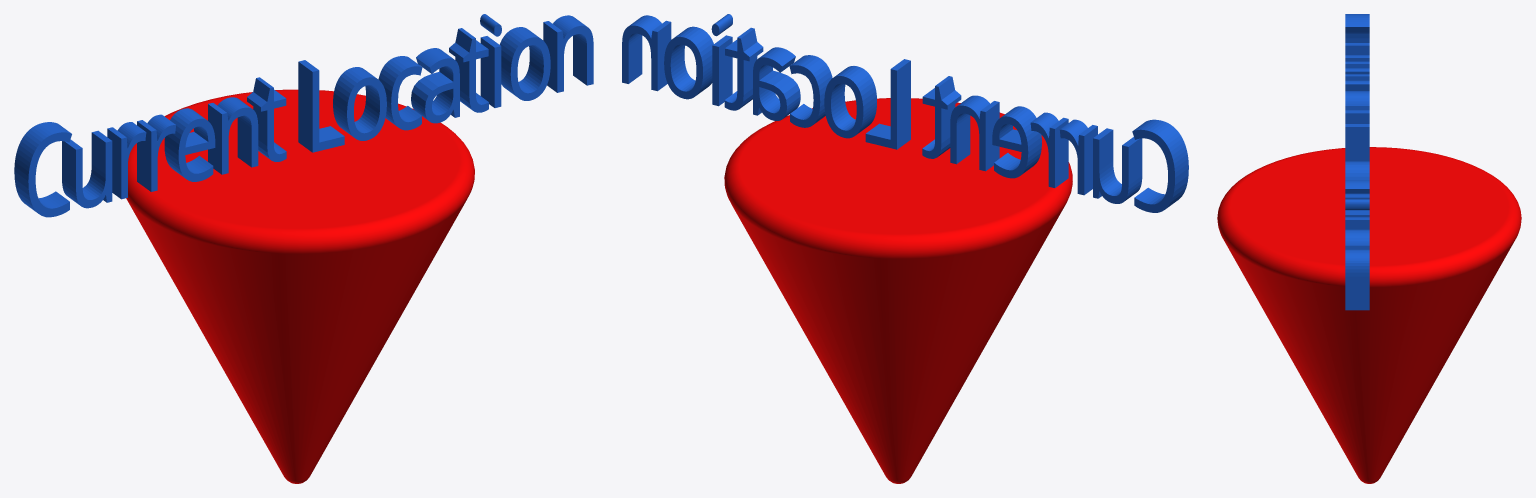
Rendered from current_location.obj.
The picture shows the model from 3 angles, left to right: view 1: azimuth 30°, elevation 25°; view 2: azimuth 150°, elevation 25°; view 3: azimuth 270°, elevation 25°; orthographic projection. The views are drawn at different scales.
Visible parts, largest first — view 1: 000_Cone, 002_3D_Text_-_u, 001_3D_Text_-_C, 009_3D_Text_-_o, 011_3D_Text_-_a, 006_3D_Text_-_n, 014_3D_Text_-_o, 005_3D_Text_-_e, 015_3D_Text_-_n, 008_3D_Text_-_L, 010_3D_Text_-_c, 012_3D_Text_-_t (+4 smaller); view 2: 000_Cone, 002_3D_Text_-_u, 001_3D_Text_-_C, 009_3D_Text_-_o, 011_3D_Text_-_a, 006_3D_Text_-_n, 014_3D_Text_-_o, 015_3D_Text_-_n, 005_3D_Text_-_e, 008_3D_Text_-_L, 010_3D_Text_-_c, 007_3D_Text_-_t (+4 smaller); view 3: 000_Cone, 015_3D_Text_-_n, 008_3D_Text_-_L, 001_3D_Text_-_C, 013_3D_Text_-_i, 002_3D_Text_-_u, 009_3D_Text_-_o, 004_3D_Text_-_r, 014_3D_Text_-_o, 003_3D_Text_-_r, 010_3D_Text_-_c.
Boxes of the visible parts, x1=… form: 000_Cone: x1=126, y1=89, x2=474, y2=483; 002_3D_Text_-_u: x1=62, y1=130, x2=112, y2=208; 001_3D_Text_-_C: x1=14, y1=122, x2=71, y2=217; 009_3D_Text_-_o: x1=333, y1=67, x2=386, y2=140; 011_3D_Text_-_a: x1=411, y1=48, x2=459, y2=123; 006_3D_Text_-_n: x1=208, y1=97, x2=258, y2=174; 014_3D_Text_-_o: x1=499, y1=27, x2=550, y2=100; 005_3D_Text_-_e: x1=164, y1=108, x2=215, y2=181; 015_3D_Text_-_n: x1=543, y1=15, x2=593, y2=92; 008_3D_Text_-_L: x1=298, y1=60, x2=344, y2=152; 010_3D_Text_-_c: x1=378, y1=56, x2=422, y2=130; 012_3D_Text_-_t: x1=449, y1=28, x2=488, y2=112; 000_Cone: x1=724, y1=98, x2=1072, y2=483; 002_3D_Text_-_u: x1=1093, y1=128, x2=1142, y2=203; 001_3D_Text_-_C: x1=1132, y1=119, x2=1188, y2=212; 009_3D_Text_-_o: x1=824, y1=66, x2=876, y2=138; 011_3D_Text_-_a: x1=753, y1=47, x2=800, y2=120; 006_3D_Text_-_n: x1=950, y1=95, x2=999, y2=171; 014_3D_Text_-_o: x1=664, y1=26, x2=713, y2=99; 015_3D_Text_-_n: x1=622, y1=15, x2=671, y2=91; 005_3D_Text_-_e: x1=992, y1=106, x2=1041, y2=178; 008_3D_Text_-_L: x1=865, y1=59, x2=910, y2=149; 010_3D_Text_-_c: x1=789, y1=55, x2=832, y2=127; 007_3D_Text_-_t: x1=922, y1=76, x2=961, y2=158; 000_Cone: x1=1217, y1=147, x2=1521, y2=483; 015_3D_Text_-_n: x1=1345, y1=243, x2=1369, y2=310; 008_3D_Text_-_L: x1=1345, y1=124, x2=1369, y2=161; 001_3D_Text_-_C: x1=1345, y1=14, x2=1369, y2=42; 013_3D_Text_-_i: x1=1345, y1=199, x2=1369, y2=229; 002_3D_Text_-_u: x1=1345, y1=43, x2=1369, y2=61; 009_3D_Text_-_o: x1=1345, y1=161, x2=1369, y2=179; 004_3D_Text_-_r: x1=1345, y1=74, x2=1369, y2=90; 014_3D_Text_-_o: x1=1345, y1=229, x2=1369, y2=243; 003_3D_Text_-_r: x1=1345, y1=61, x2=1369, y2=74; 010_3D_Text_-_c: x1=1345, y1=180, x2=1369, y2=193.
Size of what is drawn, in the model's own units: 104 by 74.71 by 57.03.
